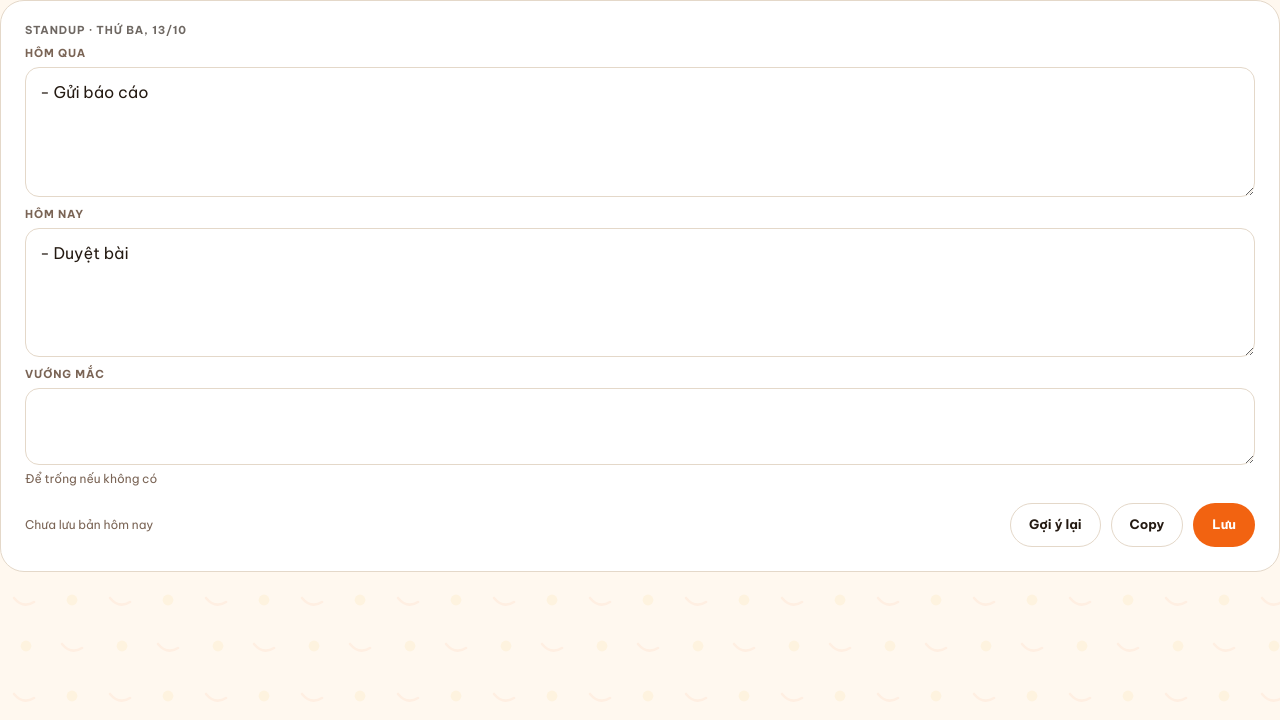
Test: StandupCard › replaces the typed text with a fresh suggestion on Gợi ý lại
The width and height of the screenshot is (1280, 720).
Replace the text in the text box labelled "Hôm nay" with "gõ nhầm" at [640, 292], box [25, 228, 1255, 357]
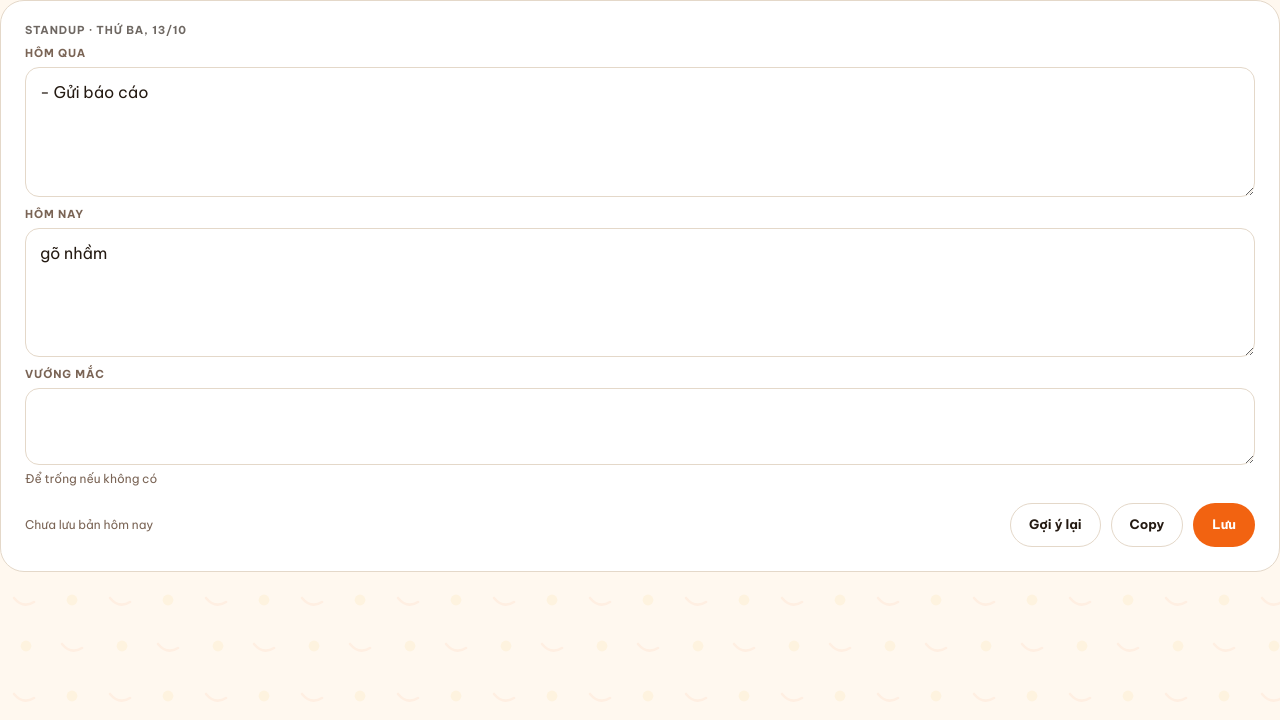
Click the button "Gợi ý lại".
click(1055, 525)  # box [1010, 503, 1101, 547]
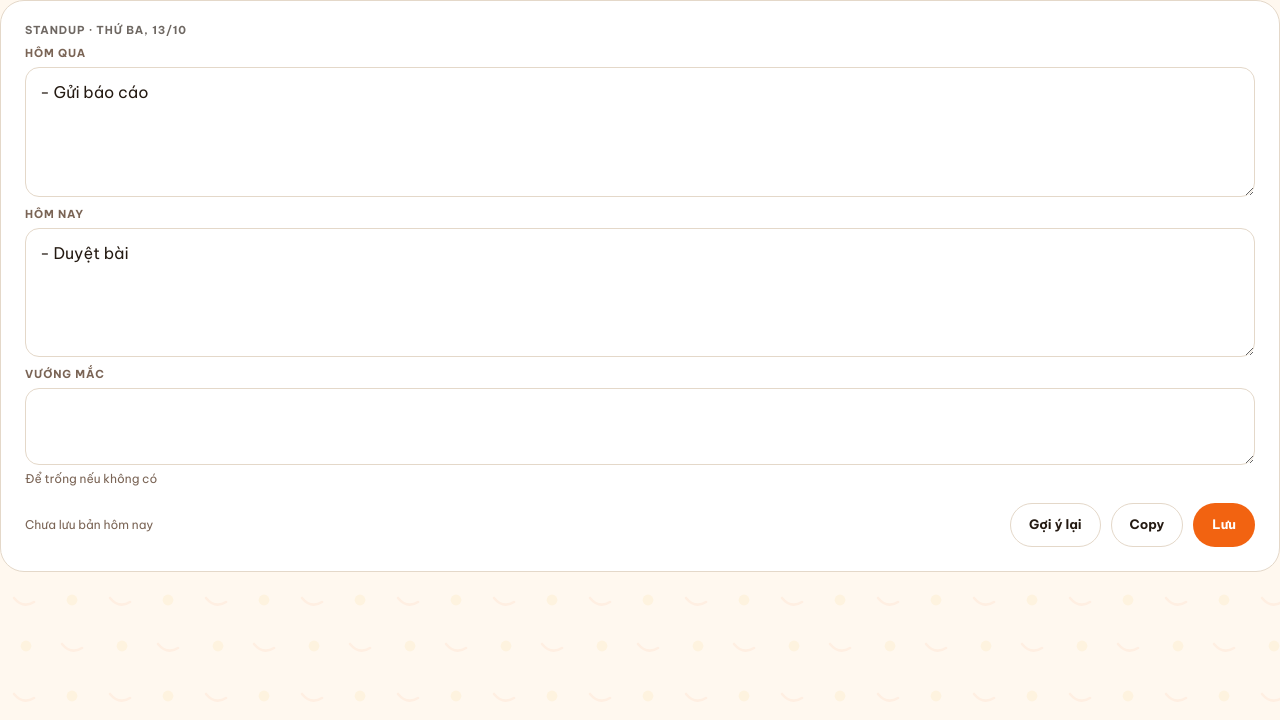
Now the text box labelled "Hôm nay" holds "- Duyệt bài", box [25, 228, 1255, 357]
